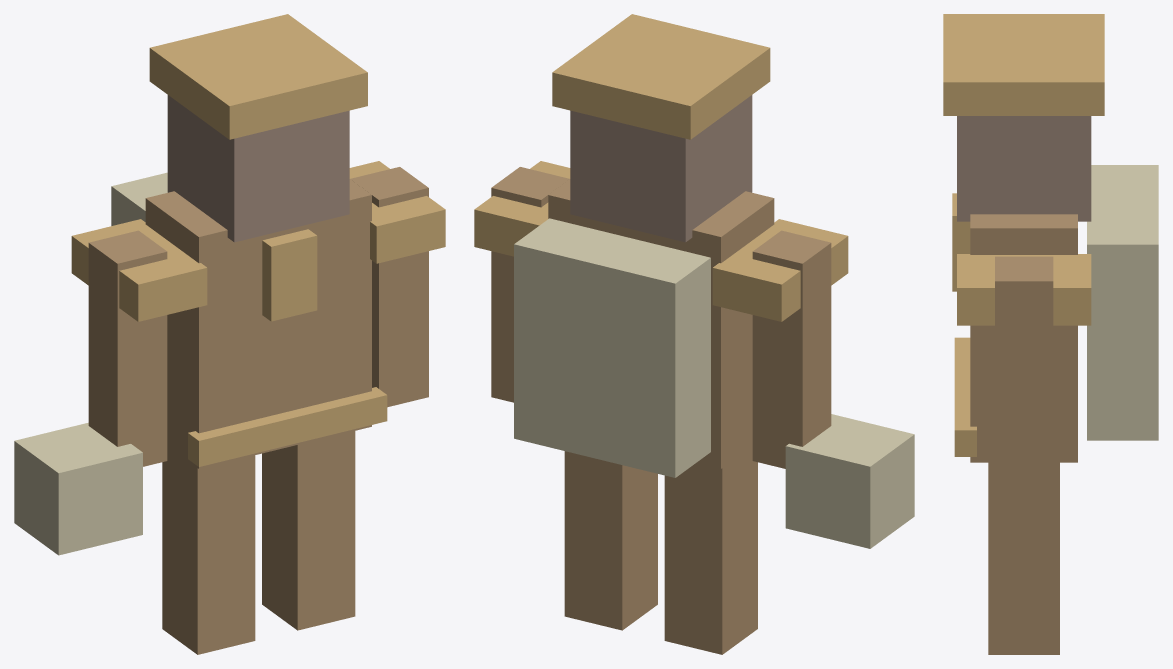
The model's file is 07_draven_echohand_marshal_of_tactical.glb.
3 views of the same model, side by side, from view 1: azimuth 30°, elevation 25°; view 2: azimuth 150°, elevation 25°; view 3: azimuth 270°, elevation 25° (orthographic).
Parts seen in each view (by area): view 1: Draven Echohand, Marshal of Tactical; view 2: Draven Echohand, Marshal of Tactical; view 3: Draven Echohand, Marshal of Tactical.
Part boxes in pixels (x1,y1,x2,y2): Draven Echohand, Marshal of Tactical: [14, 14, 445, 654]; Draven Echohand, Marshal of Tactical: [474, 14, 914, 654]; Draven Echohand, Marshal of Tactical: [943, 14, 1158, 654].
Size of the model in its own units: 1.08 by 1.51 by 0.5188.
